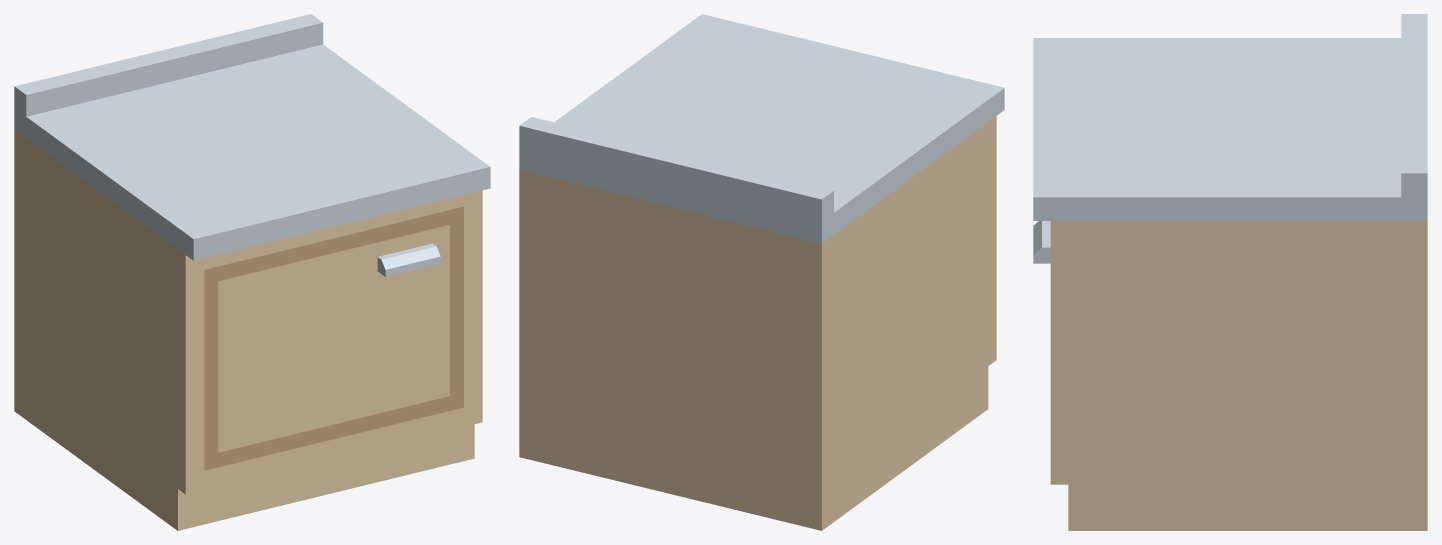
The model's file is kitchenCabinet.glb.
3 renders of one model, left to right at view 1: azimuth 30°, elevation 25°; view 2: azimuth 150°, elevation 25°; view 3: azimuth 270°, elevation 25°, orthographic. The views are drawn at different scales.
Visible parts, largest first — view 1: kitchenCabinet(Clone), door; view 2: kitchenCabinet(Clone); view 3: kitchenCabinet(Clone), door.
Part boxes in pixels (x1,y1,x2,y2): kitchenCabinet(Clone): (14,14,490,530); door: (204,206,463,470); kitchenCabinet(Clone): (519,14,1004,530); kitchenCabinet(Clone): (1033,14,1427,530); door: (1033,221,1050,263).
Bounding box in the file's own units: 0.43 × 0.45 × 0.45.
